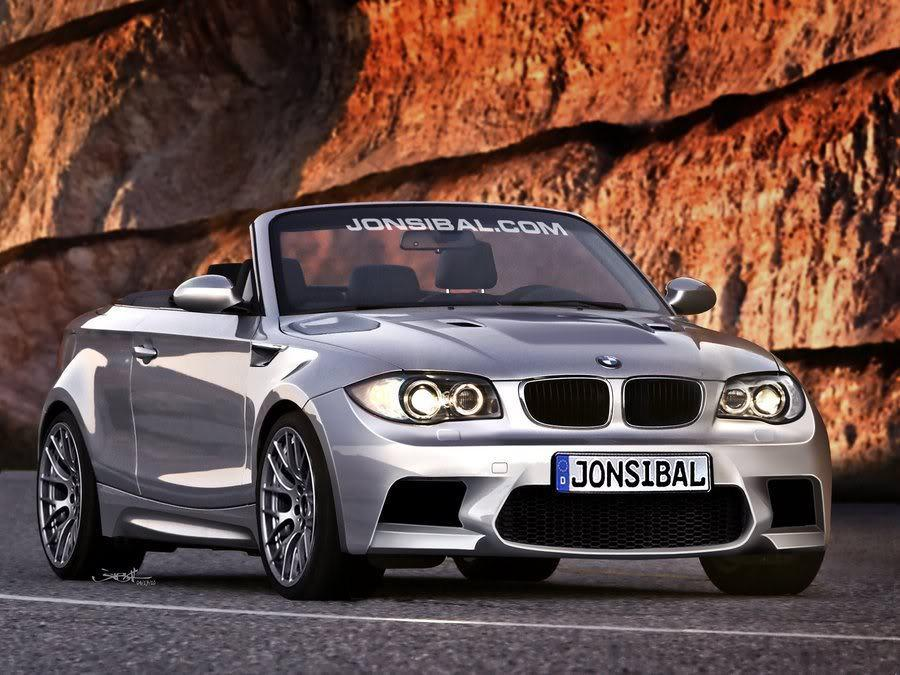Car: (22, 175, 853, 635)
